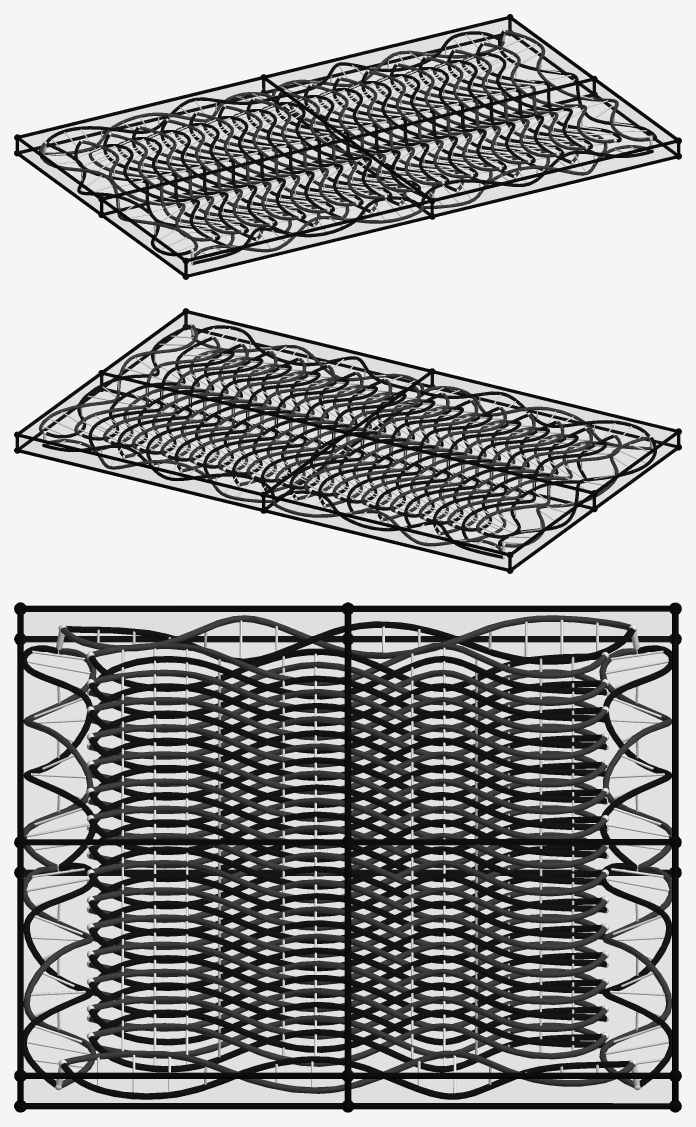
The model's file is merged-blck-v83.glb.
3 views of the same model, one above another, from view 1: azimuth 30°, elevation 25°; view 2: azimuth 150°, elevation 25°; view 3: azimuth 270°, elevation 25° (orthographic). The views are drawn at different scales.
Parts seen in each view (by area): view 1: 4; view 2: 4; view 3: 4.
Boxes of the visible parts, x1,y1,x2,y2 form: 4: (14, 14, 681, 279); 4: (14, 308, 681, 573); 4: (14, 602, 681, 1112).
Size of the model in its own units: 6.95 by 0.2899 by 4.15.
Materials: 1 (1 with a texture image).
